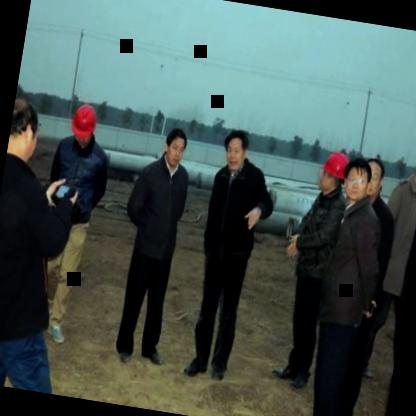head: (4, 92, 42, 170), (342, 151, 376, 208), (218, 126, 252, 174), (159, 123, 191, 171), (358, 154, 387, 203), (408, 142, 416, 191)
helmet: (66, 97, 101, 151), (316, 148, 352, 200)
